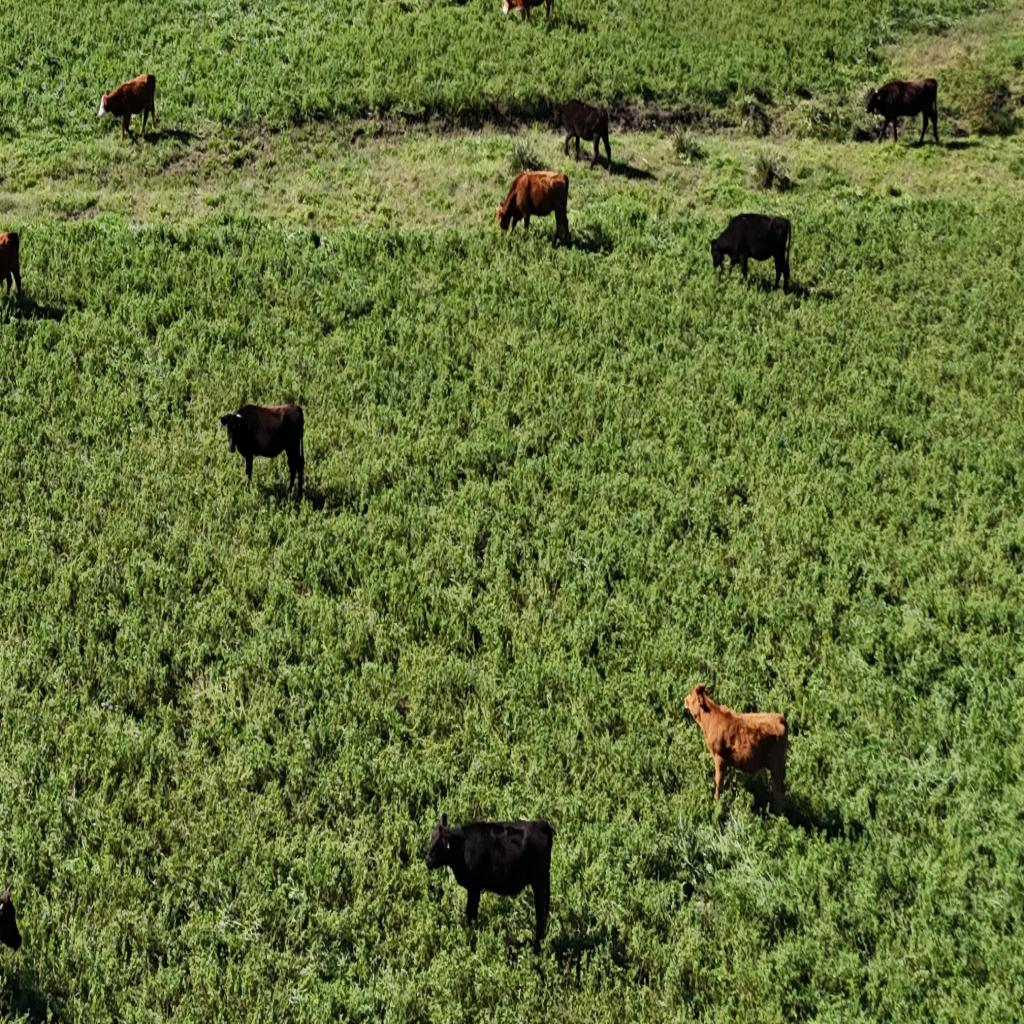cow: (424, 813, 554, 950), (684, 684, 788, 813), (220, 402, 305, 496), (708, 214, 791, 296), (496, 170, 570, 248), (863, 77, 939, 147), (554, 100, 610, 173), (98, 73, 158, 141), (0, 229, 22, 303), (503, 0, 555, 28), (0, 886, 22, 952)
